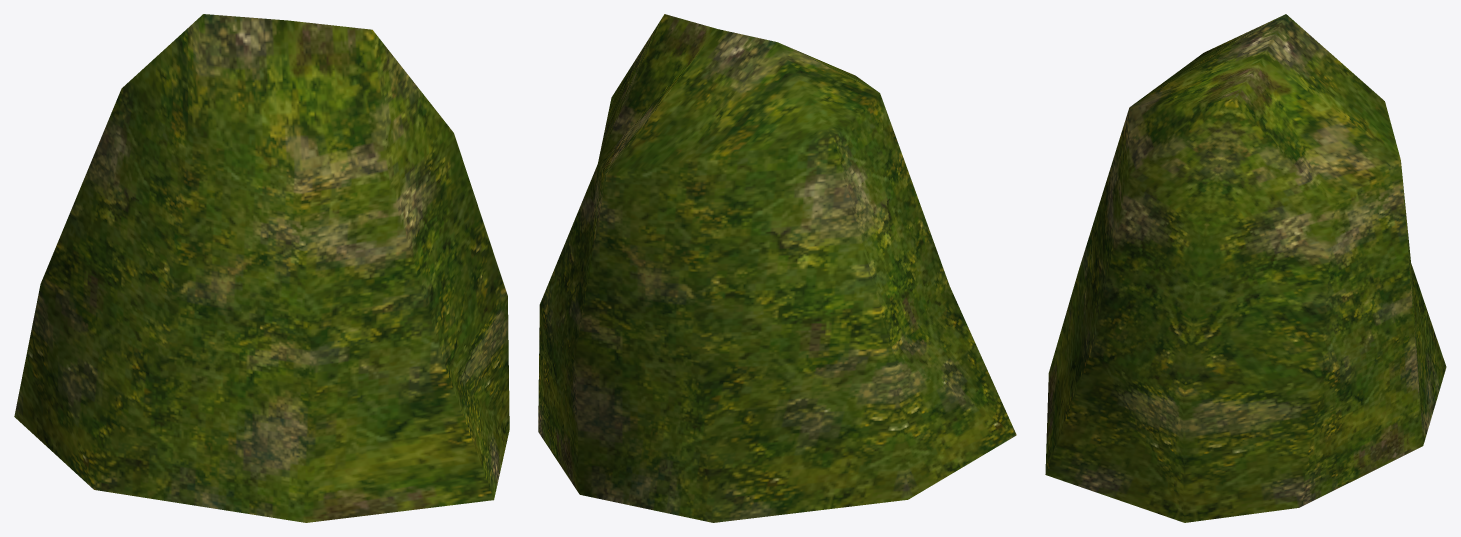
Rendered from OVERHILL_A_01_ROCK22.fbx.
3 views of the same model, side by side, from view 1: azimuth 30°, elevation 25°; view 2: azimuth 150°, elevation 25°; view 3: azimuth 270°, elevation 25° (orthographic). The views are drawn at different scales.
Parts seen in each view (by area): view 1: OVERHILL_A_01_ROCK22; view 2: OVERHILL_A_01_ROCK22; view 3: OVERHILL_A_01_ROCK22.
Boxes of the visible parts, bbox=[...] form: OVERHILL_A_01_ROCK22: bbox=[14, 14, 509, 522]; OVERHILL_A_01_ROCK22: bbox=[538, 14, 1016, 522]; OVERHILL_A_01_ROCK22: bbox=[1045, 14, 1446, 522].
Size of the model in its own units: 18357 by 18105 by 16556.
Materials: 1 (1 with a texture image).
